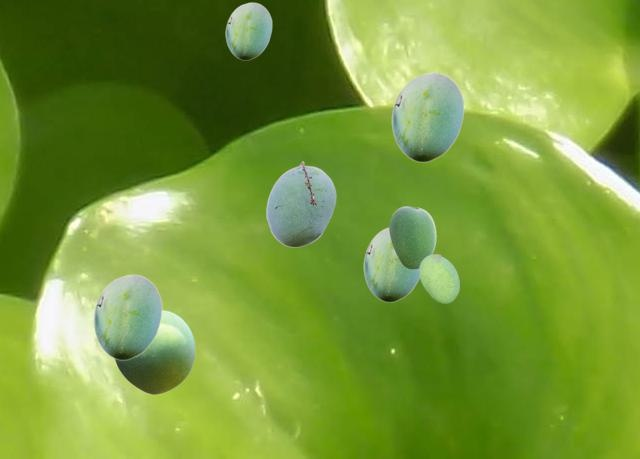green_mango: (114, 309, 194, 393), (391, 72, 463, 161), (266, 161, 335, 246), (93, 274, 161, 359), (363, 227, 419, 301), (389, 206, 435, 268), (225, 2, 271, 59), (419, 254, 458, 302)
